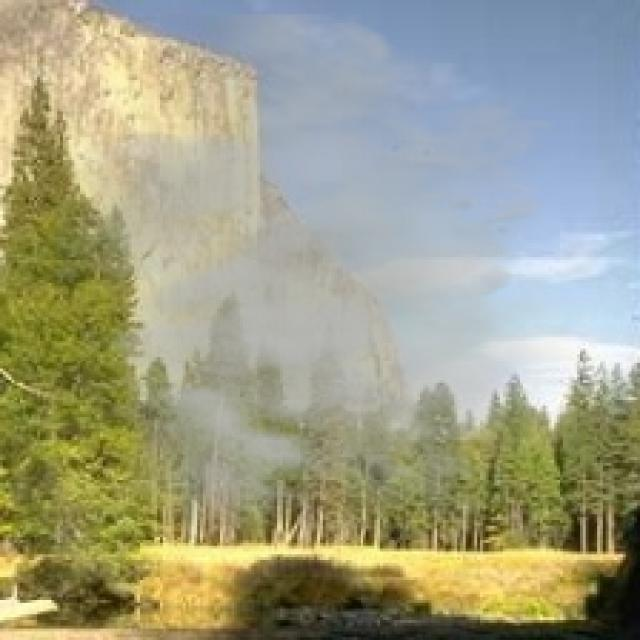Smoke: (54, 14, 609, 557)
